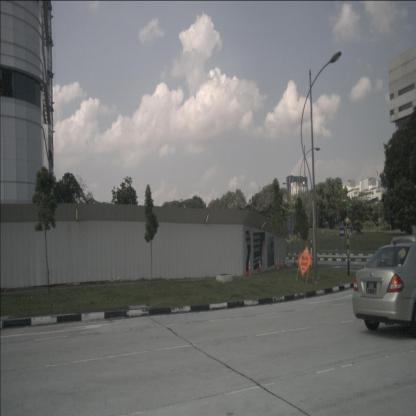movable_object-trafficcone: (247, 260, 252, 276), (257, 259, 262, 274), (275, 257, 279, 269), (284, 258, 287, 268), (293, 258, 296, 268), (280, 259, 283, 268)
vehicle-car: (352, 242, 416, 338)
